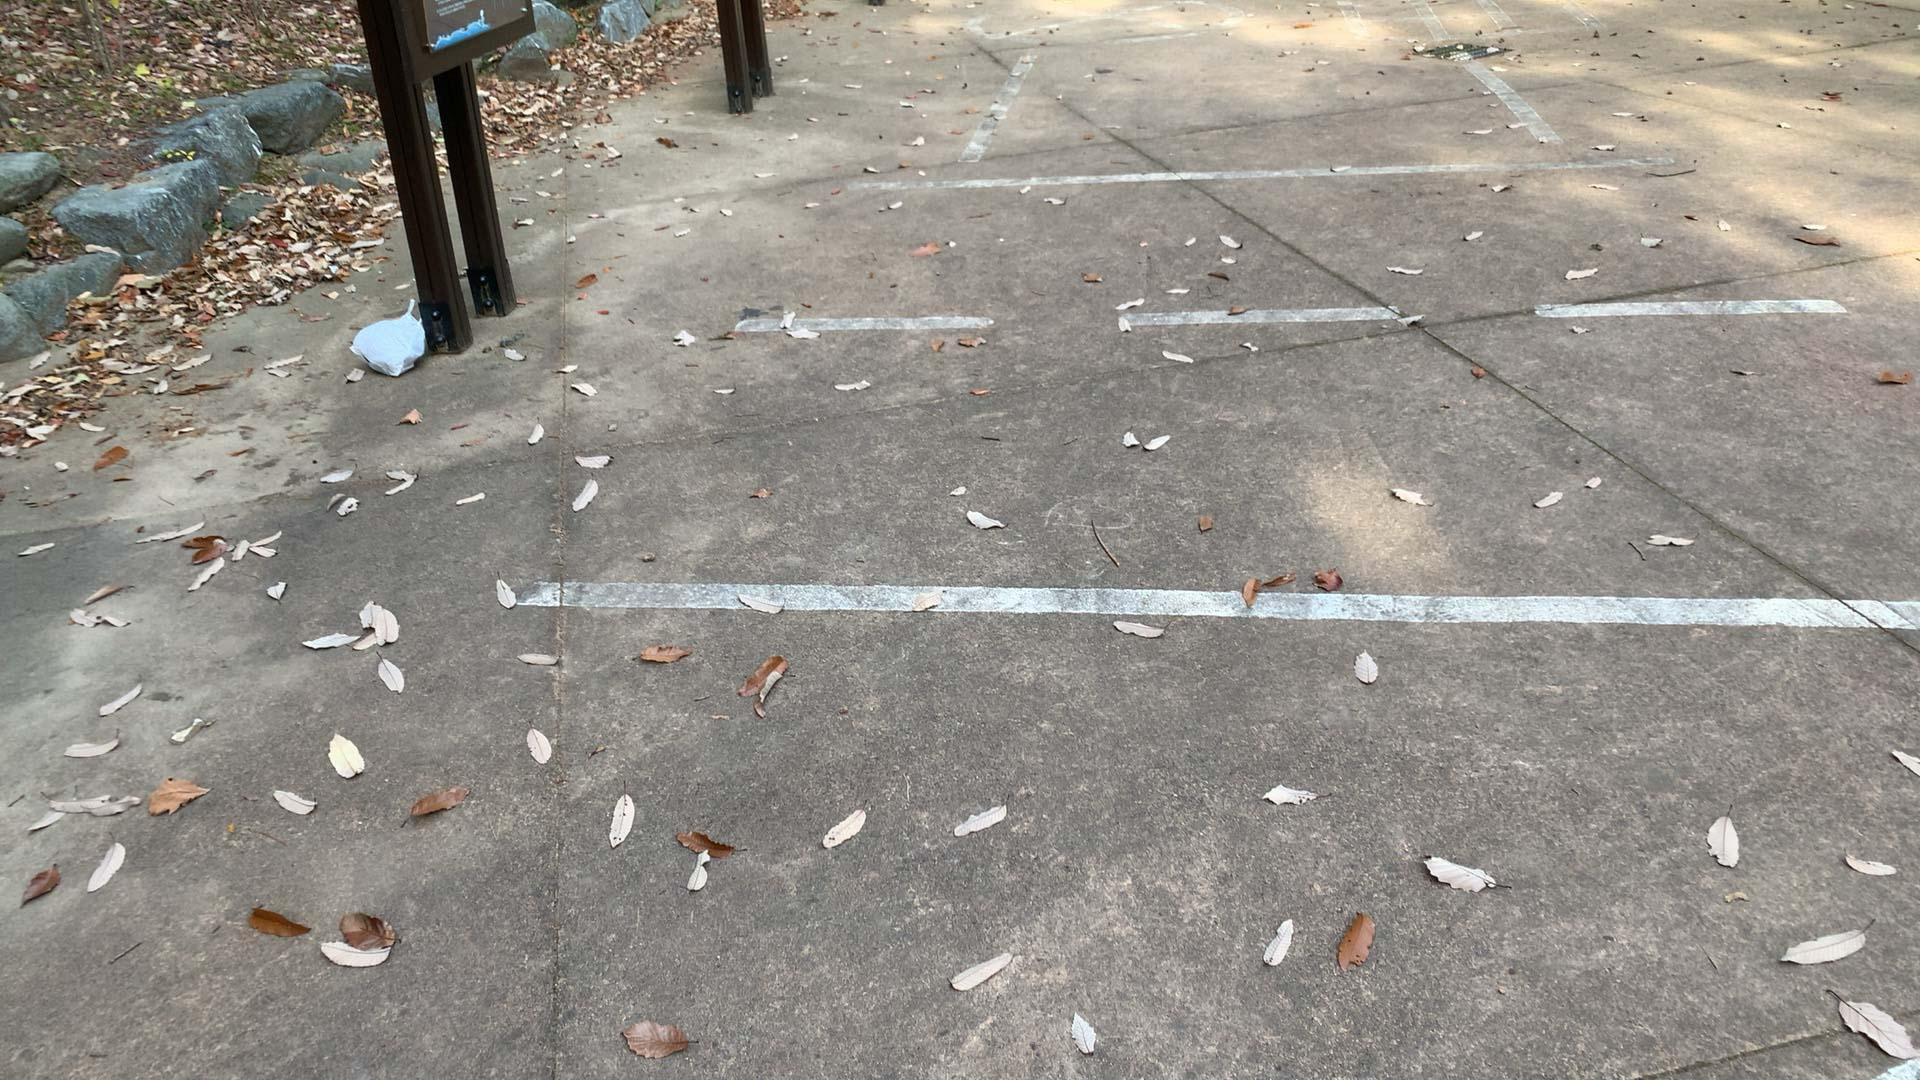white_bag: (335, 295, 434, 380)
